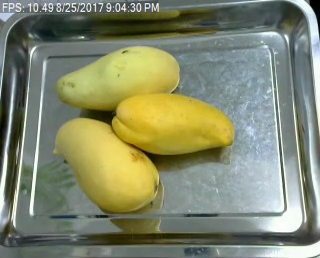Mango: (53, 117, 165, 217), (111, 91, 240, 159), (56, 44, 182, 112)
